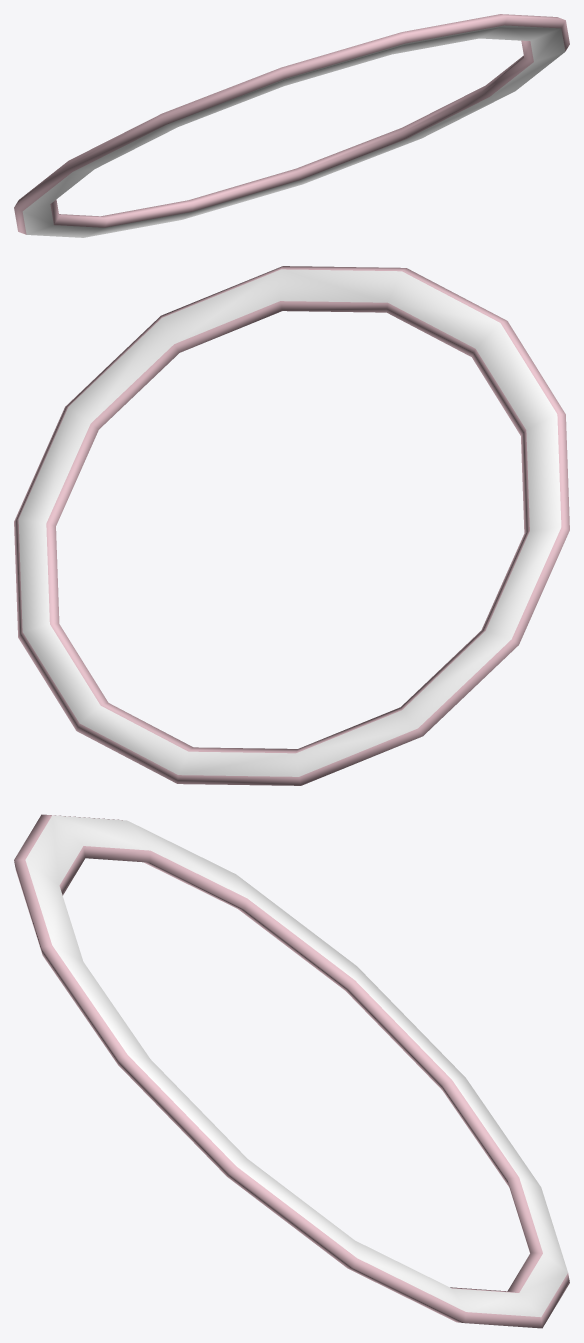
File: ladies_biker_ar.glb
3 renders of one model, top to bottom at view 1: azimuth 30°, elevation 25°; view 2: azimuth 150°, elevation 25°; view 3: azimuth 270°, elevation 25°, orthographic. The views are drawn at different scales.
Visible parts, largest first — view 1: Ladies_Biker_AR_Halo; view 2: Ladies_Biker_AR_Halo; view 3: Ladies_Biker_AR_Halo.
Part boxes in pixels (x1,y1,x2,y2): Ladies_Biker_AR_Halo: [14, 14, 569, 237]; Ladies_Biker_AR_Halo: [14, 266, 569, 785]; Ladies_Biker_AR_Halo: [14, 814, 569, 1328].
Bounding box in the file's own units: 0.2805 × 0.185 × 0.2204.
1 material, 1 textured.
